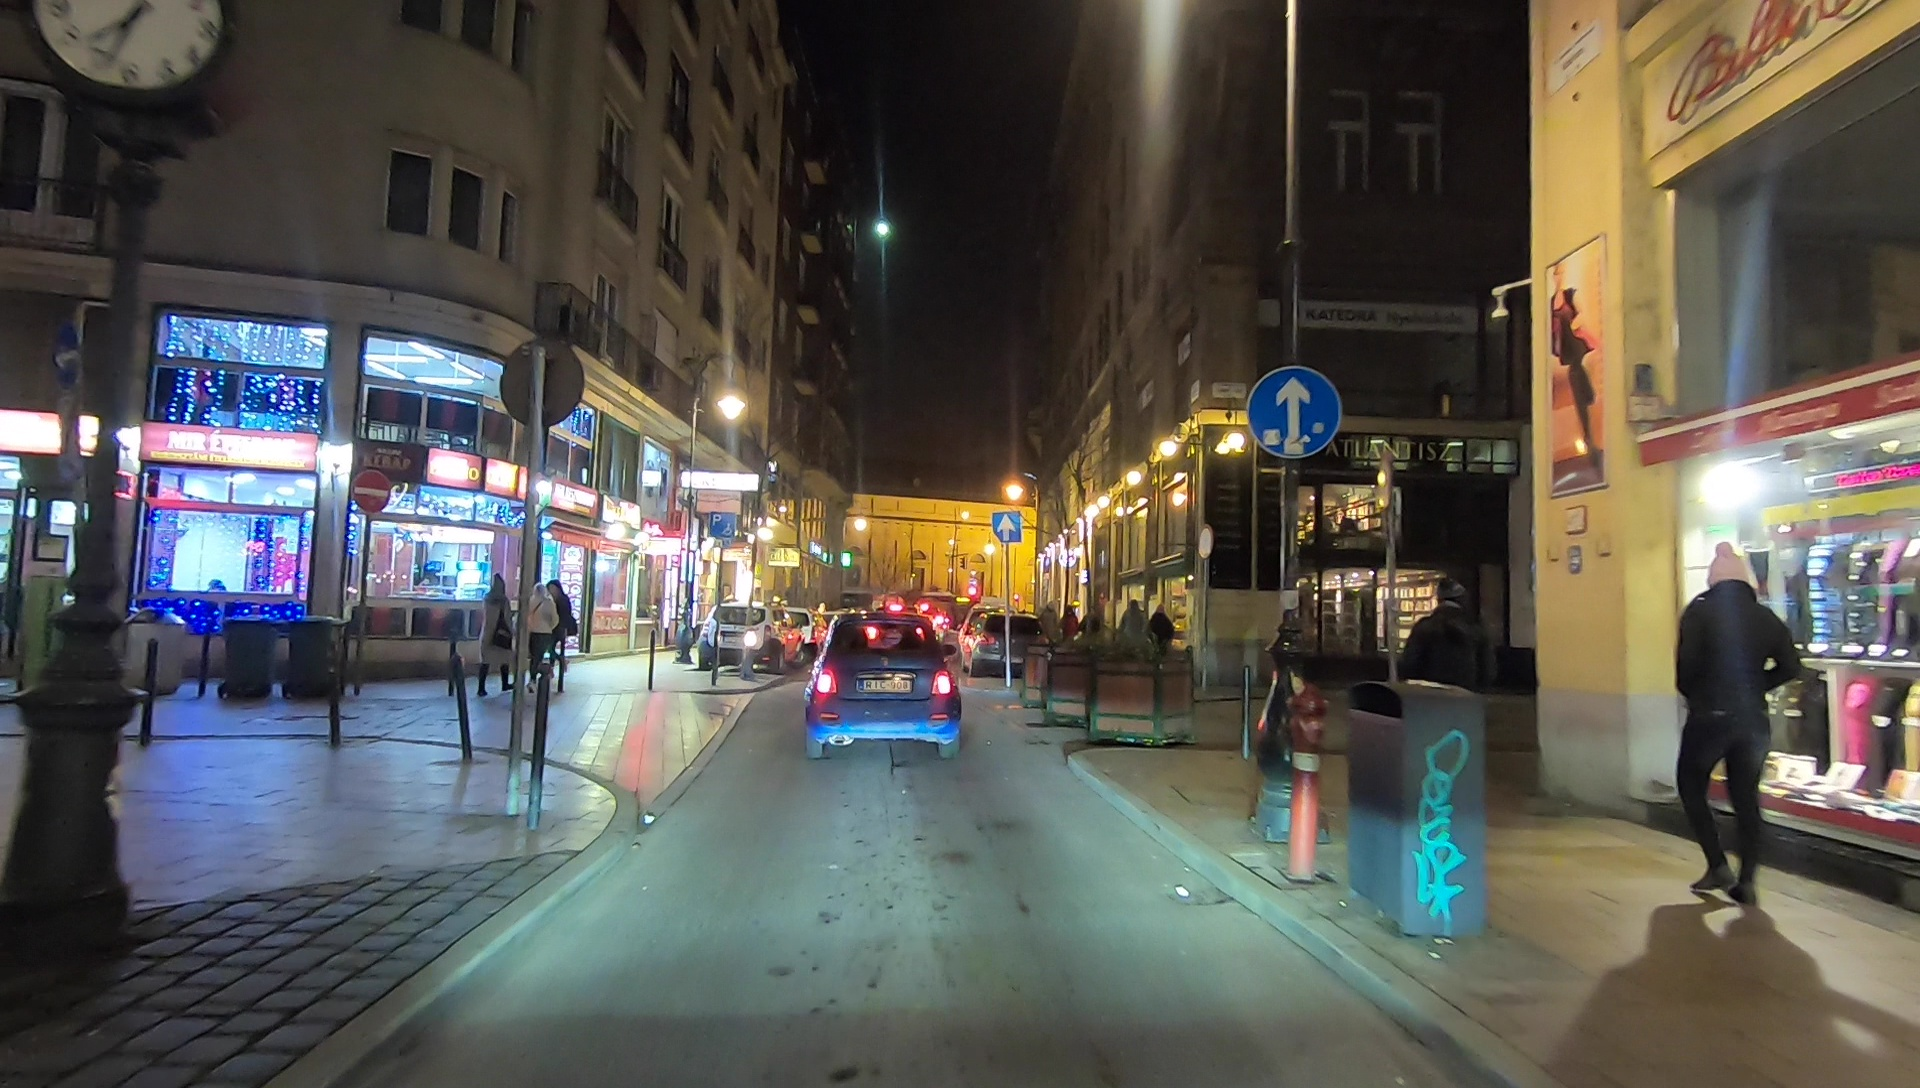person: (1673, 543, 1797, 911), (1395, 573, 1493, 804), (475, 571, 517, 697), (545, 584, 582, 689), (525, 586, 551, 693), (1143, 606, 1173, 691), (1058, 604, 1078, 661)
